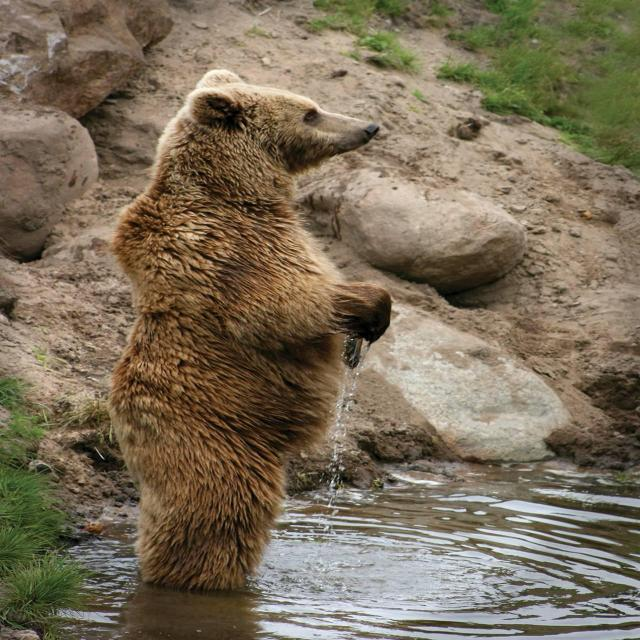Bear: (110, 67, 391, 595)
